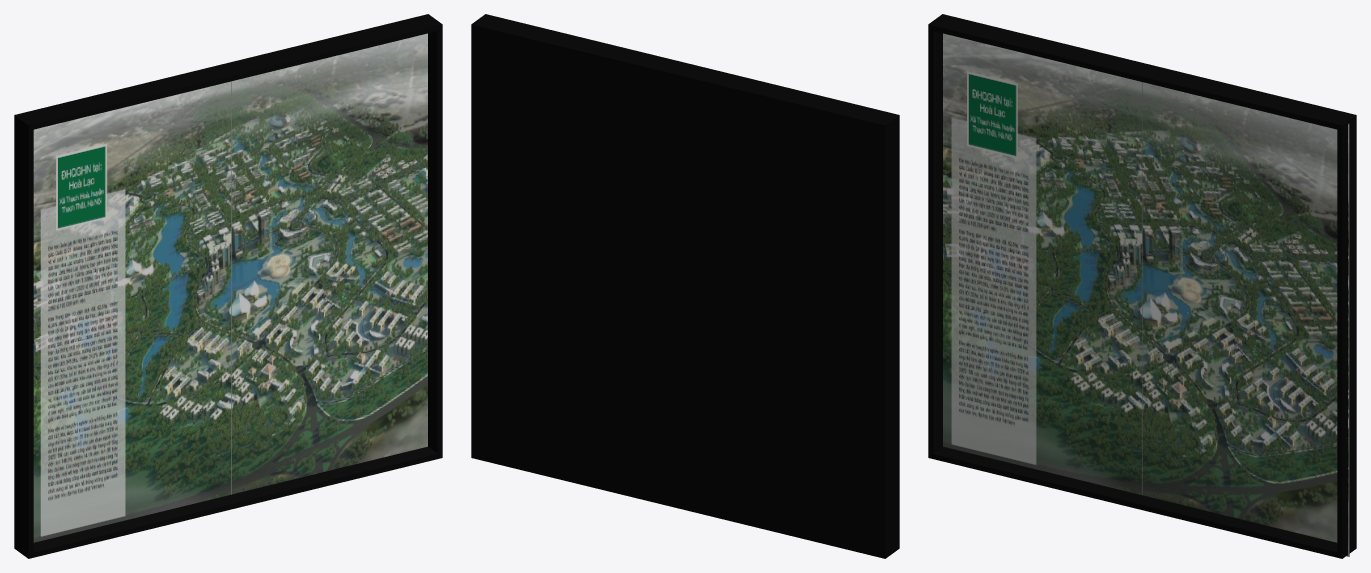
The model's file is HoaLac.obj.
3 views of the same model, side by side, from view 1: azimuth 30°, elevation 25°; view 2: azimuth 150°, elevation 25°; view 3: azimuth 330°, elevation 25° (orthographic).
Visible parts, largest first — view 1: Plane, Cube; view 2: Cube; view 3: Plane, Cube.
Part boxes in pixels (box(x1,y1,x2,y2)): Plane: box(33, 33, 427, 542); Cube: box(14, 14, 442, 558); Cube: box(471, 14, 899, 558); Plane: box(943, 33, 1349, 556); Cube: box(928, 14, 1356, 558).
Bounding box in the file's own units: 1 × 1 × 0.06.
2 materials, 1 textured.
